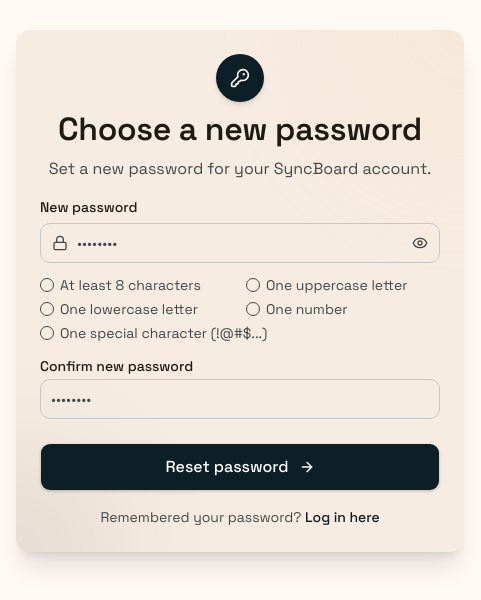
Scenario: ResetPasswordPage › shows a validation error when the passwords do not match
Type "correct-password1" into the password field labelled "New password". click: (240, 244)
box: [40,224,440,264]
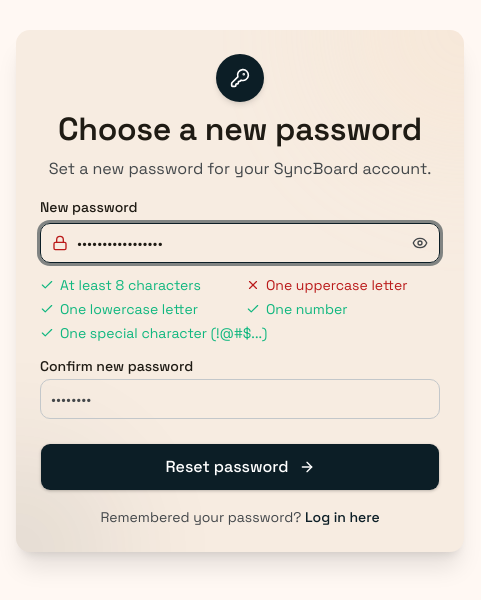
Type "different-password1" into the password field labelled "Confirm new password". click: (240, 400)
box: [40,380,440,420]
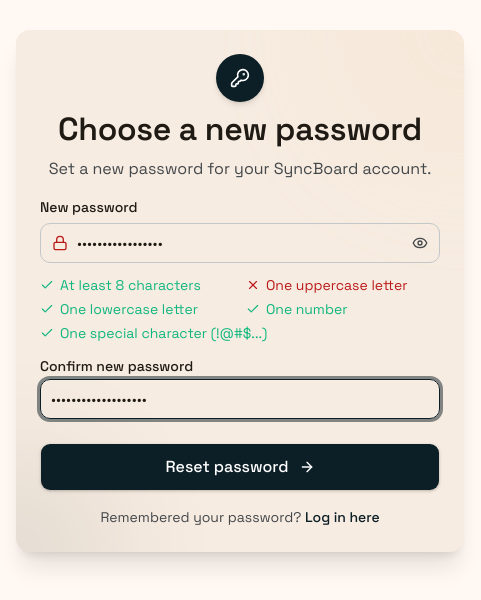
Click the button "Reset password". click: (240, 468)
box: [40,444,440,492]
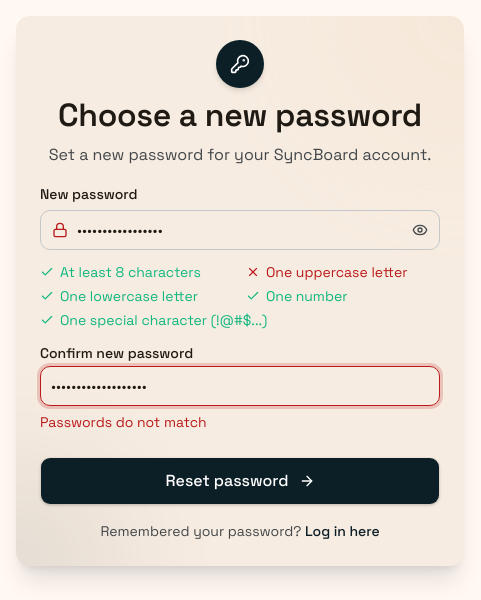
Result: the text "Passwords do not match" is shown at [40,413,207,431]
